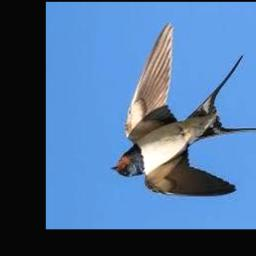Swallow: (112, 23, 256, 196)
